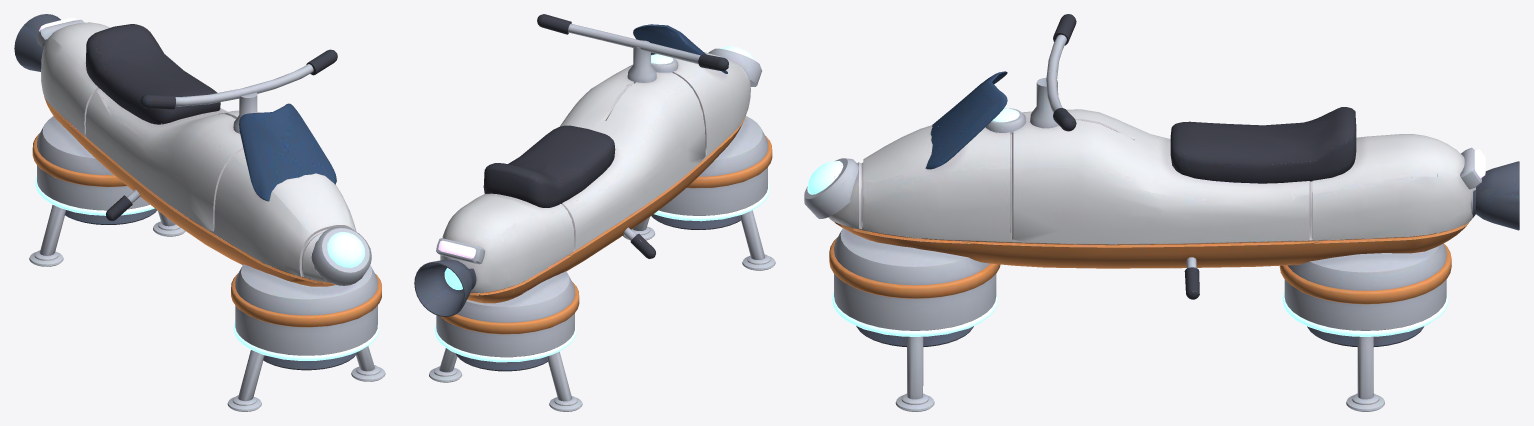
File: moto_flotante.glb
3 renders of one model, left to right at view 1: azimuth 30°, elevation 25°; view 2: azimuth 150°, elevation 25°; view 3: azimuth 270°, elevation 25°, orthographic. The views are drawn at different scales.
Parts seen in each view (by area): view 1: hover-bike_body; view 2: hover-bike_body; view 3: hover-bike_body.
Part boxes in pixels (left/top/right/bottom): hover-bike_body: left=14, top=14, right=385, bottom=411; hover-bike_body: left=414, top=14, right=775, bottom=411; hover-bike_body: left=804, top=14, right=1519, bottom=411.
Bounding box in the file's own units: 0.8539 × 1.13 × 2.38.
Materials: 5 (1 with a texture image).
